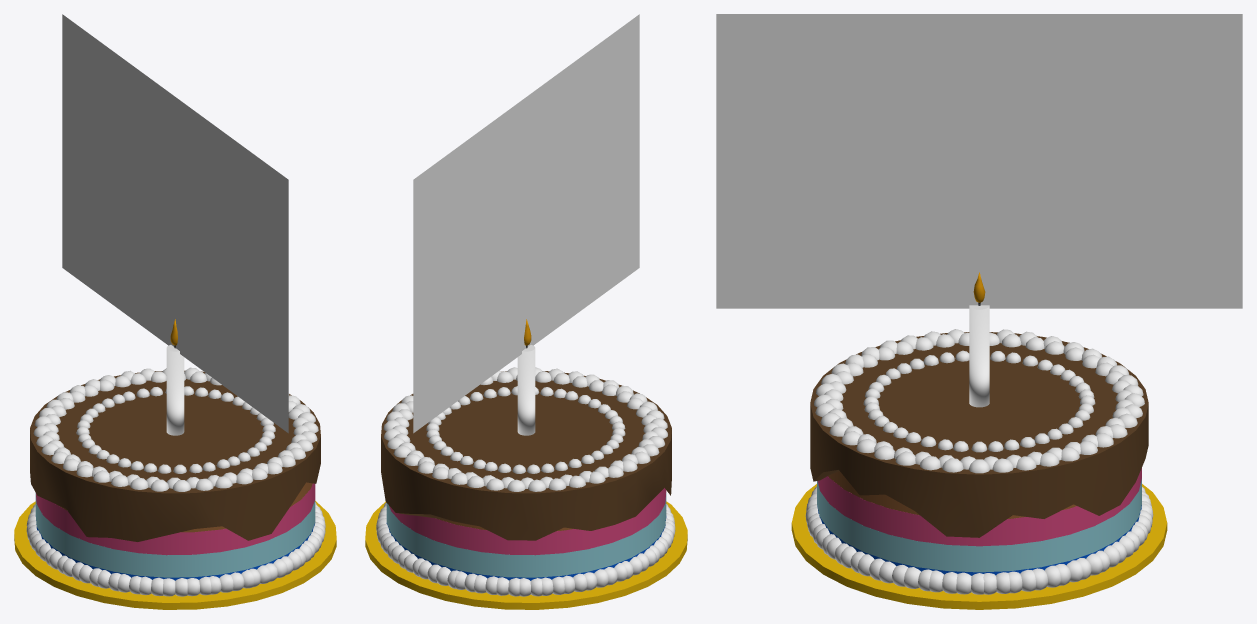
The model's file is Cake.dae.
The picture shows the model from 3 angles, left to right: view 1: azimuth 30°, elevation 25°; view 2: azimuth 150°, elevation 25°; view 3: azimuth 270°, elevation 25°; orthographic projection. The views are drawn at different scales.
Parts seen in each view (by area): view 1: Cylinder_003, Plane; view 2: Cylinder_003, Plane; view 3: Plane, Cylinder_003.
Part boxes in pixels (left/top/right/bottom): Cylinder_003: left=14, top=319, right=336, bottom=609; Plane: left=62, top=14, right=288, bottom=433; Cylinder_003: left=365, top=319, right=687, bottom=609; Plane: left=413, top=14, right=639, bottom=433; Plane: left=716, top=14, right=1242, bottom=308; Cylinder_003: left=791, top=272, right=1167, bottom=609.
Bounding box in the file's own units: 2.31 × 3.24 × 3.51.
